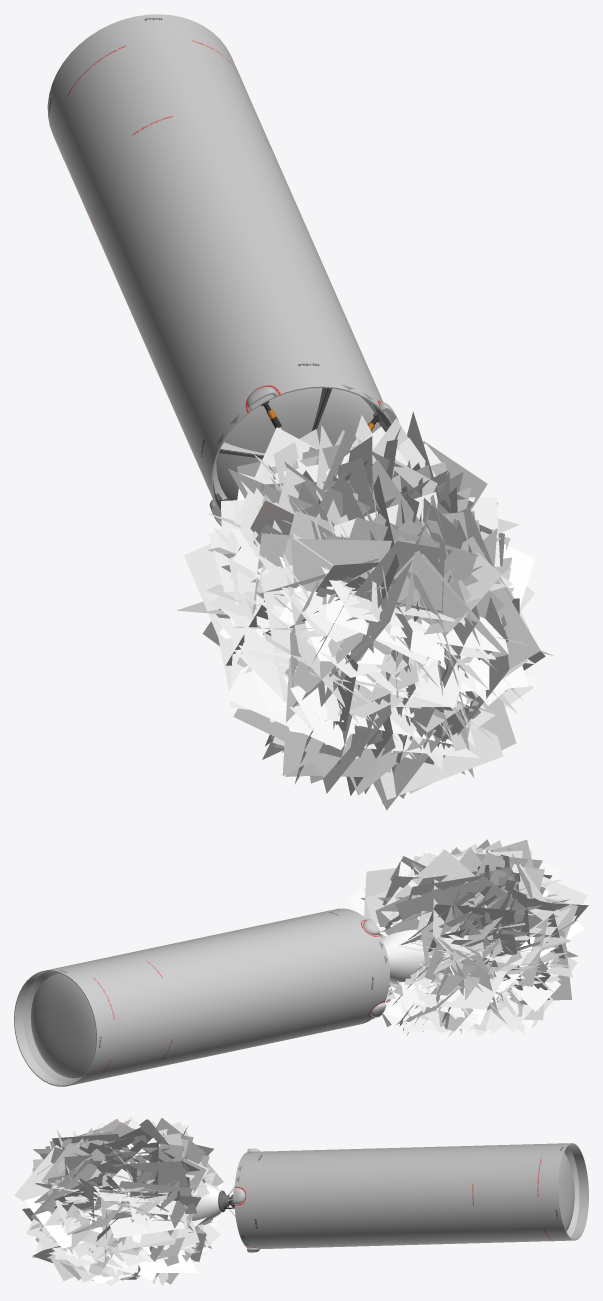
The model's file is rocket_body.glb.
3 views of the same model, one above another, from view 1: azimuth 30°, elevation 25°; view 2: azimuth 150°, elevation 25°; view 3: azimuth 270°, elevation 25° (orthographic). The views are drawn at different scales.
Visible parts, largest first — view 1: engine flame effect.001, tank long flat section.001; view 2: tank long flat section.001, engine flame effect.001; view 3: tank long flat section.001, engine flame effect.001.
Boxes of the visible parts, left/top/right/bottom form: engine flame effect.001: left=176, top=411, right=553, bottom=810; tank long flat section.001: left=47, top=14, right=398, bottom=526; tank long flat section.001: left=14, top=908, right=425, bottom=1086; engine flame effect.001: left=346, top=839, right=588, bottom=1038; tank long flat section.001: left=191, top=1143, right=588, bottom=1252; engine flame effect.001: left=14, top=1115, right=223, bottom=1286.
Bounding box in the file's own units: 11.08 × 8.64 × 23.59.
Materials: 3 (3 with a texture image).
